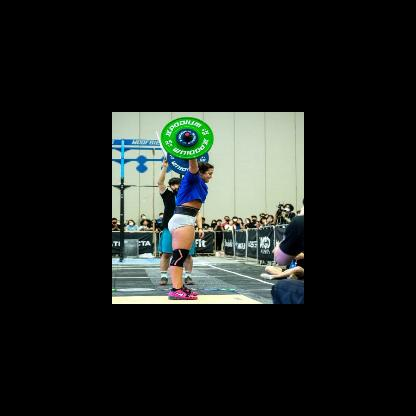barbell: (160, 117, 214, 160)
